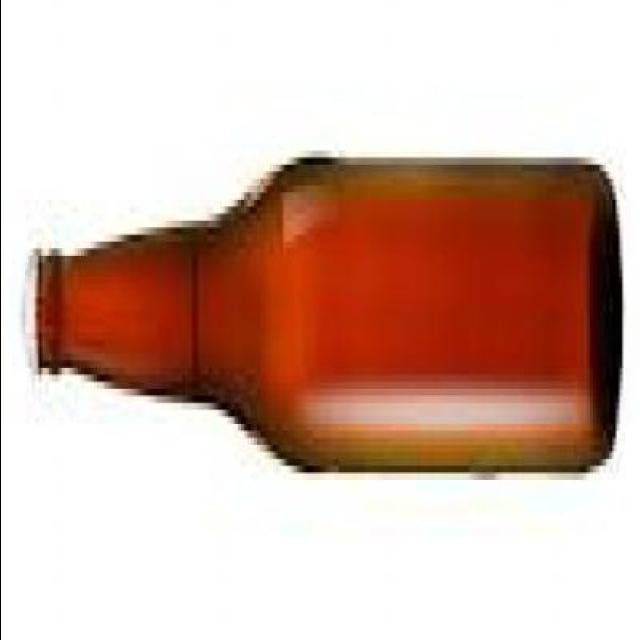kaca: (38, 171, 620, 480)
